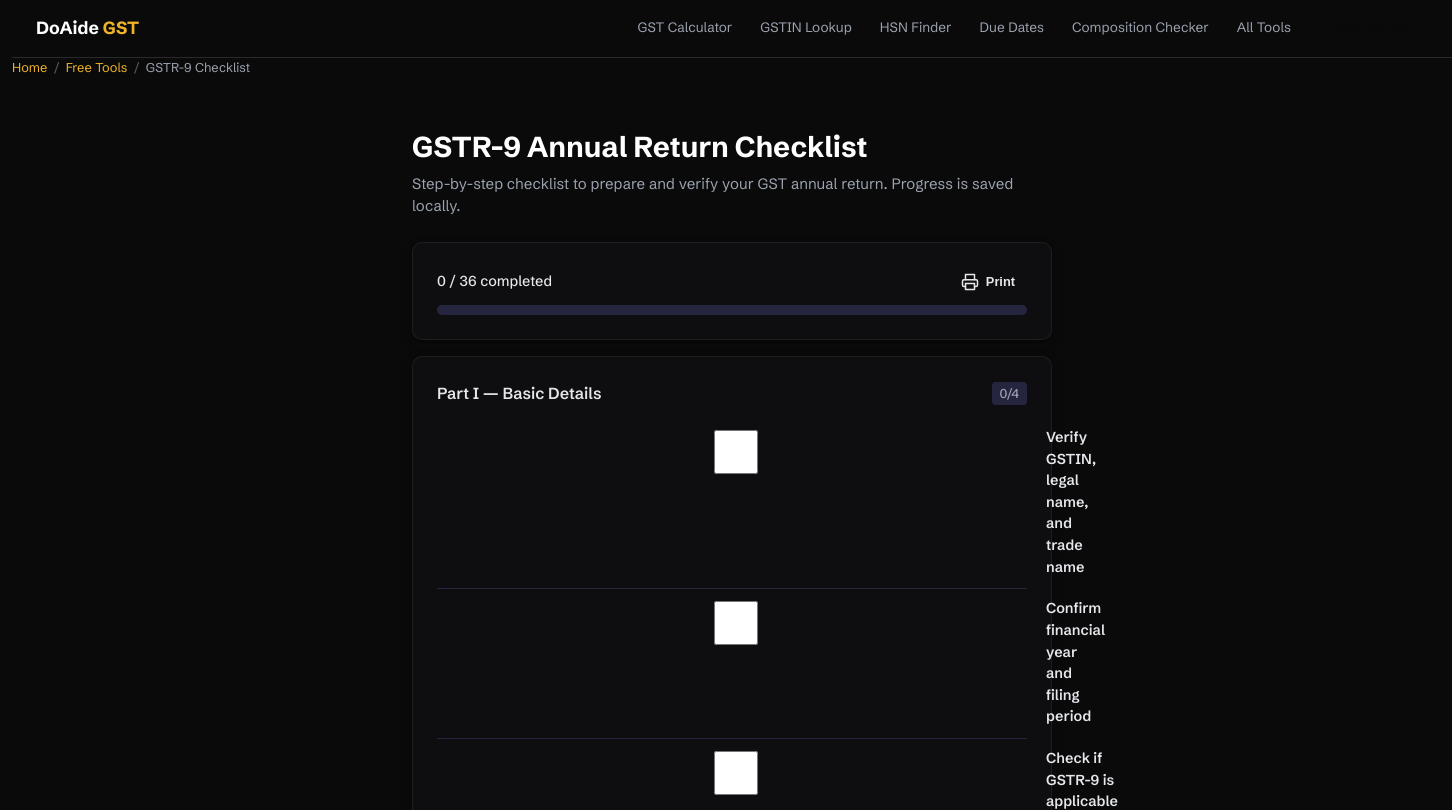
Scenario: Gstr9ChecklistPage › reset button clears all checks
What coordinates should you click on to do the following:
click the checkbox labelled "Verify GSTIN, legal name, and trade name"
I would click on:
 (736, 452)
Its box is [441,430,1031,474].
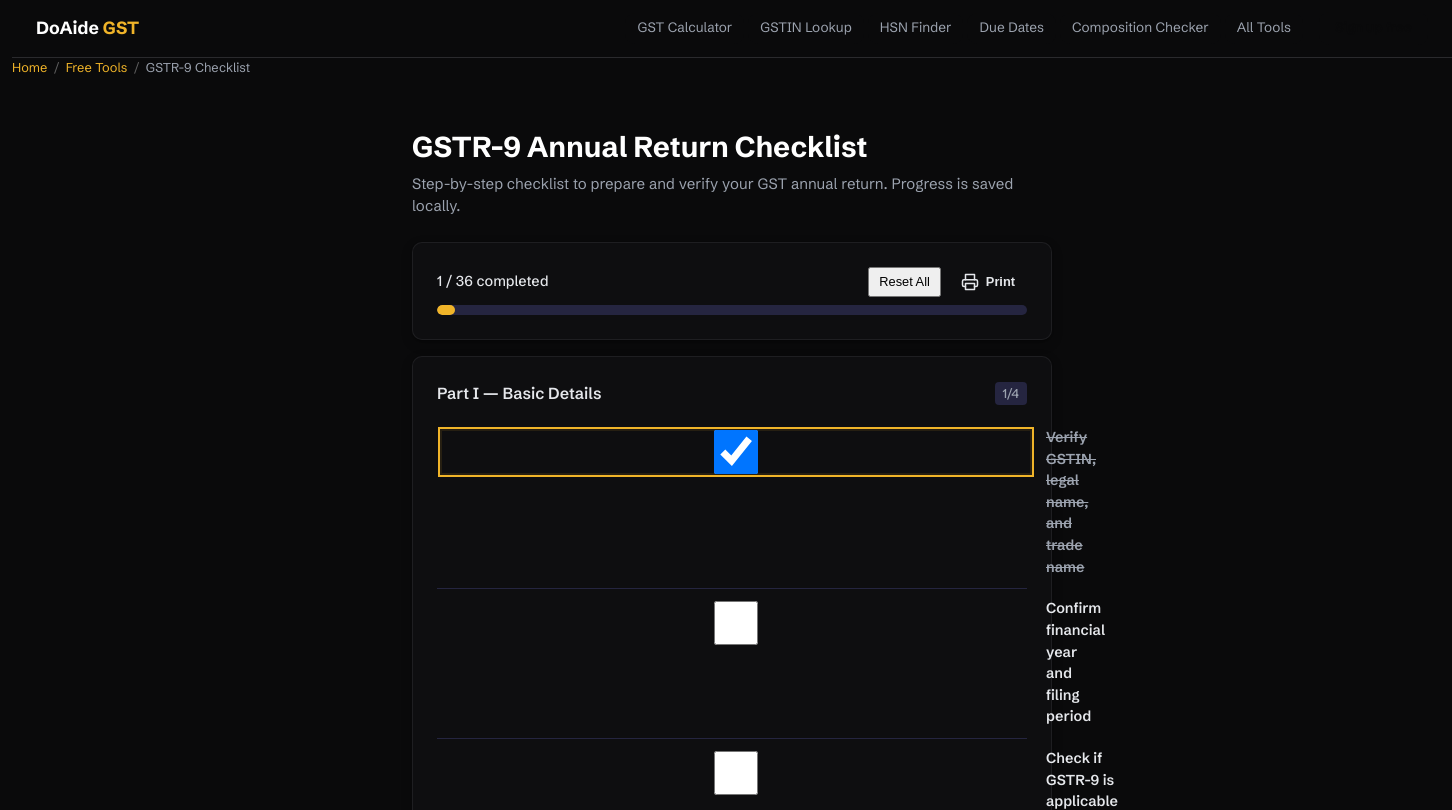
What coordinates should you click on to do the following:
click the checkbox labelled "Confirm financial year and filing period"
I would click on:
 (736, 623)
Its box is [441,601,1031,645].
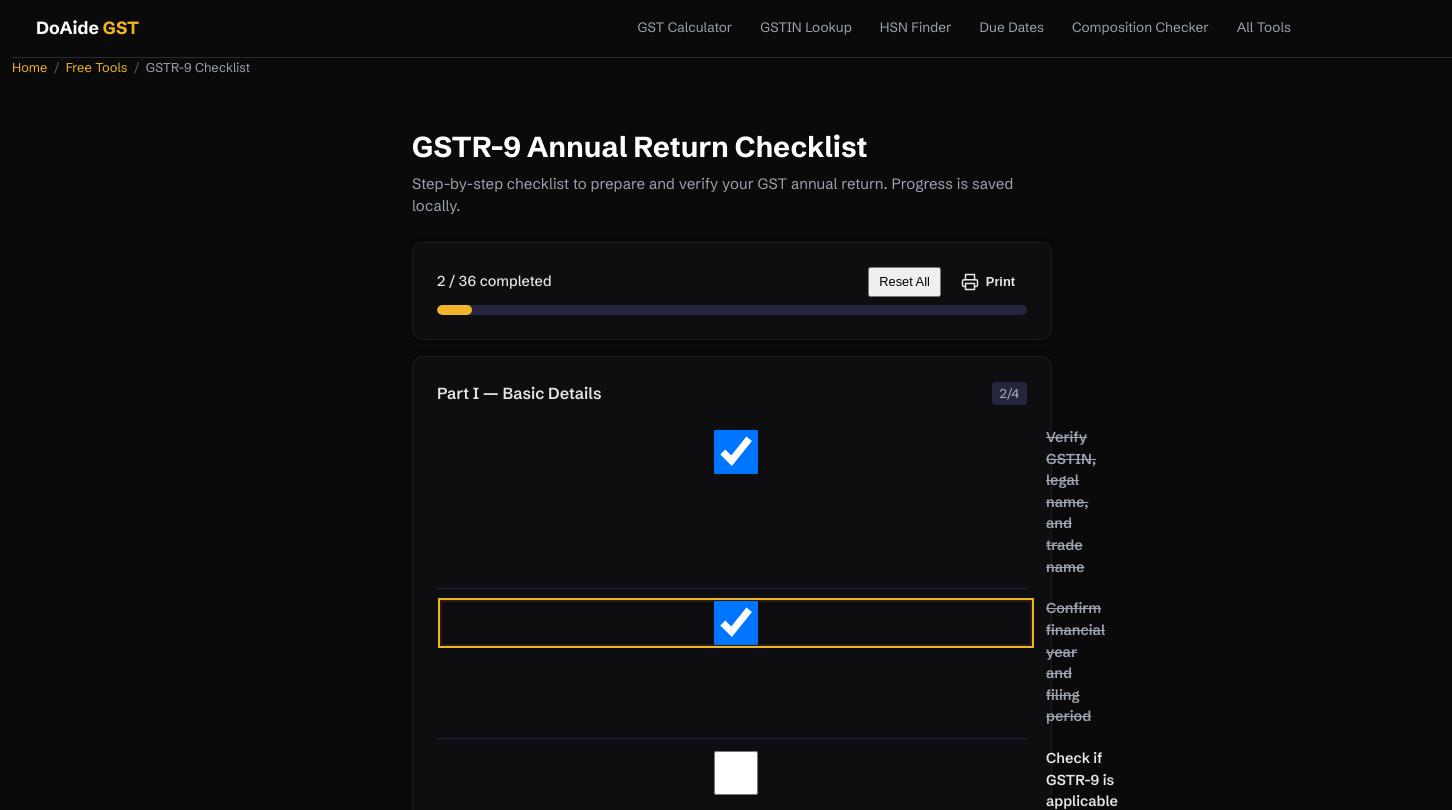
Result: the text "2 / 36 completed" is shown at [437,271,552,293]
What coordinates should you click on to do the following:
click the button "Reset All"
I would click on:
 (905, 282)
Its box is [868,266,942,297].
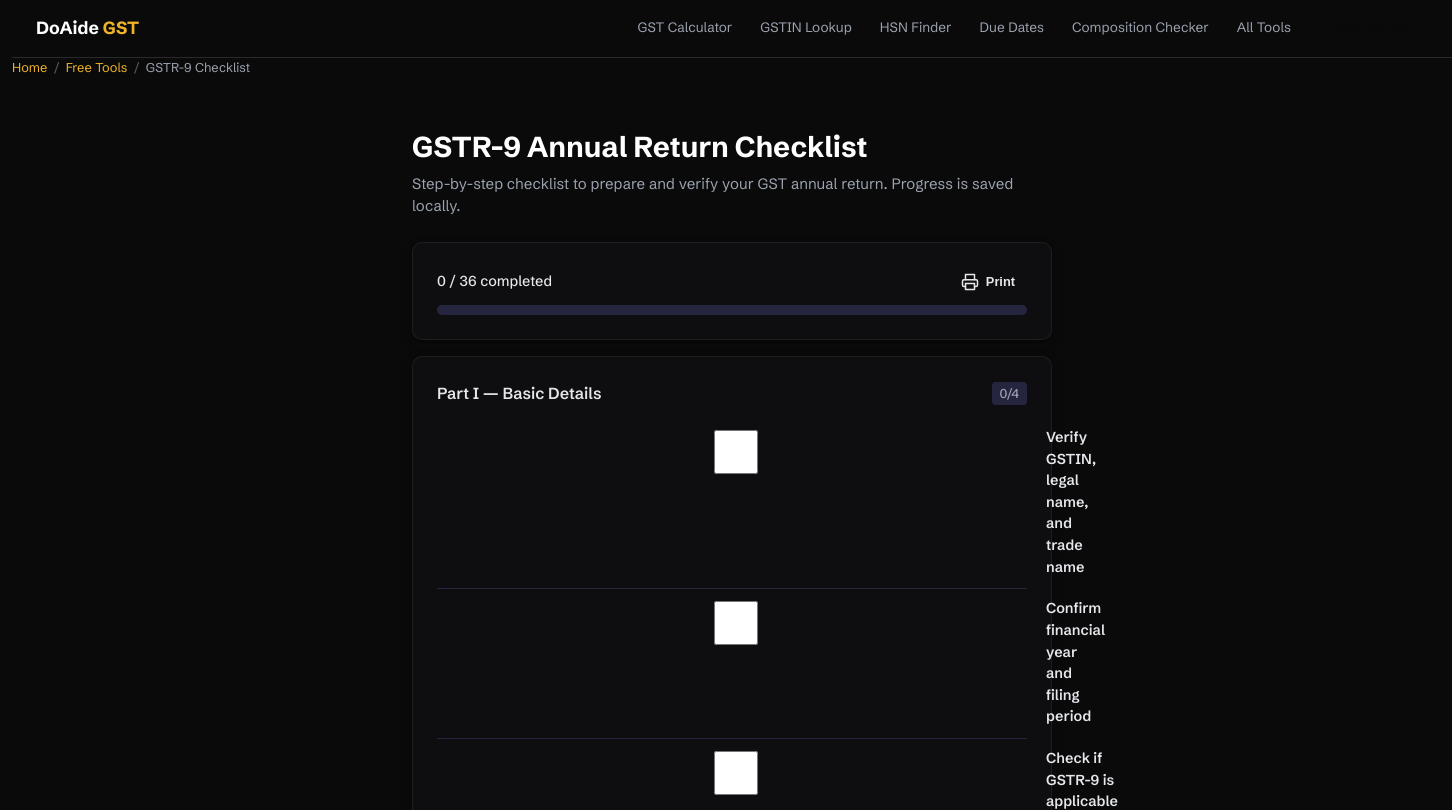
Result: the text "0 / 36 completed" is shown at [437,271,552,293]
